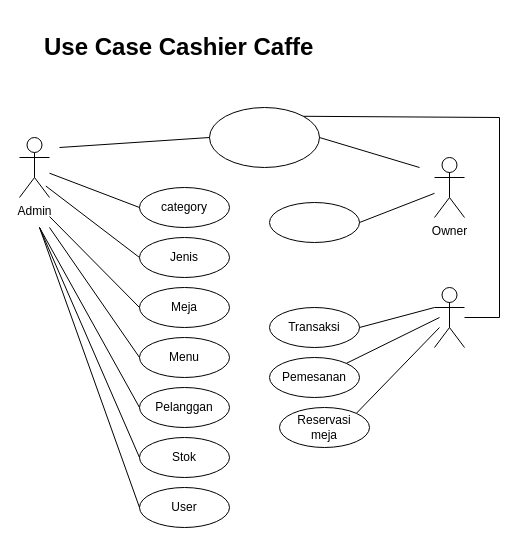
Image size: 518x545. Some labels were removed from this diagram. Here are the shapes that lost their labels. From the top down, the centre of each, then its label:
(x=264, y=137): Login
(x=314, y=222): Laporan
(x=449, y=317): Kasir
